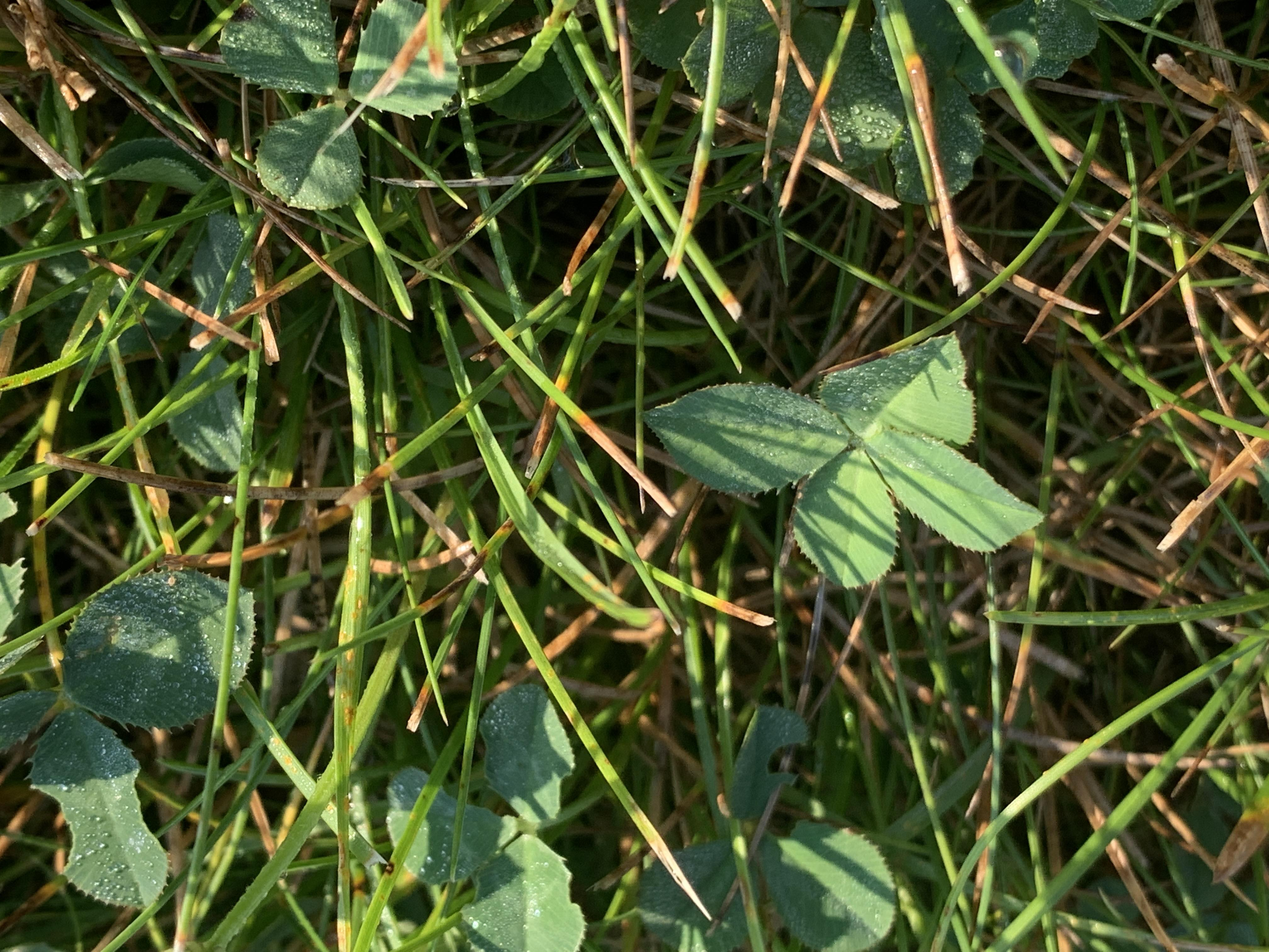4-Leaf-Clovers: (496, 479, 820, 772)
